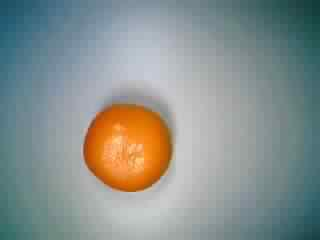orange: (81, 96, 177, 192)
